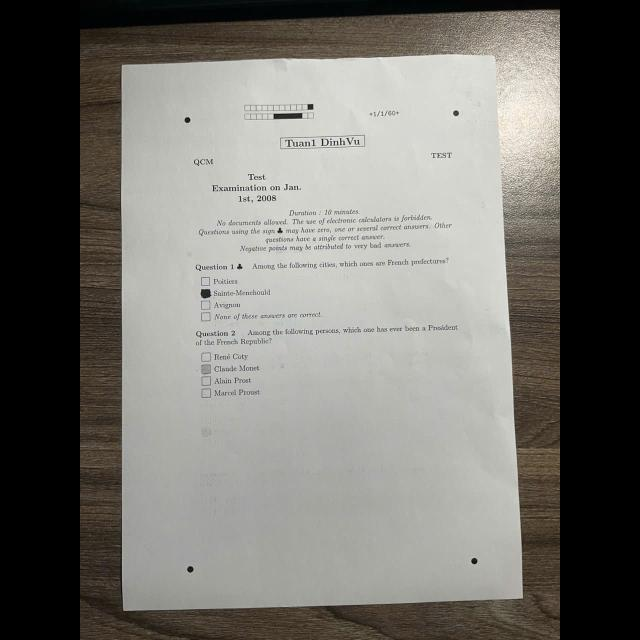Markers: (184, 117, 190, 123), (453, 110, 459, 116), (471, 558, 477, 564), (187, 566, 193, 572)
